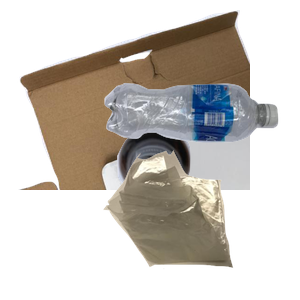cardboard: (16, 10, 256, 190)
glass: (115, 120, 300, 300)
plastic: (102, 81, 300, 216)
trash: (101, 148, 300, 300)
